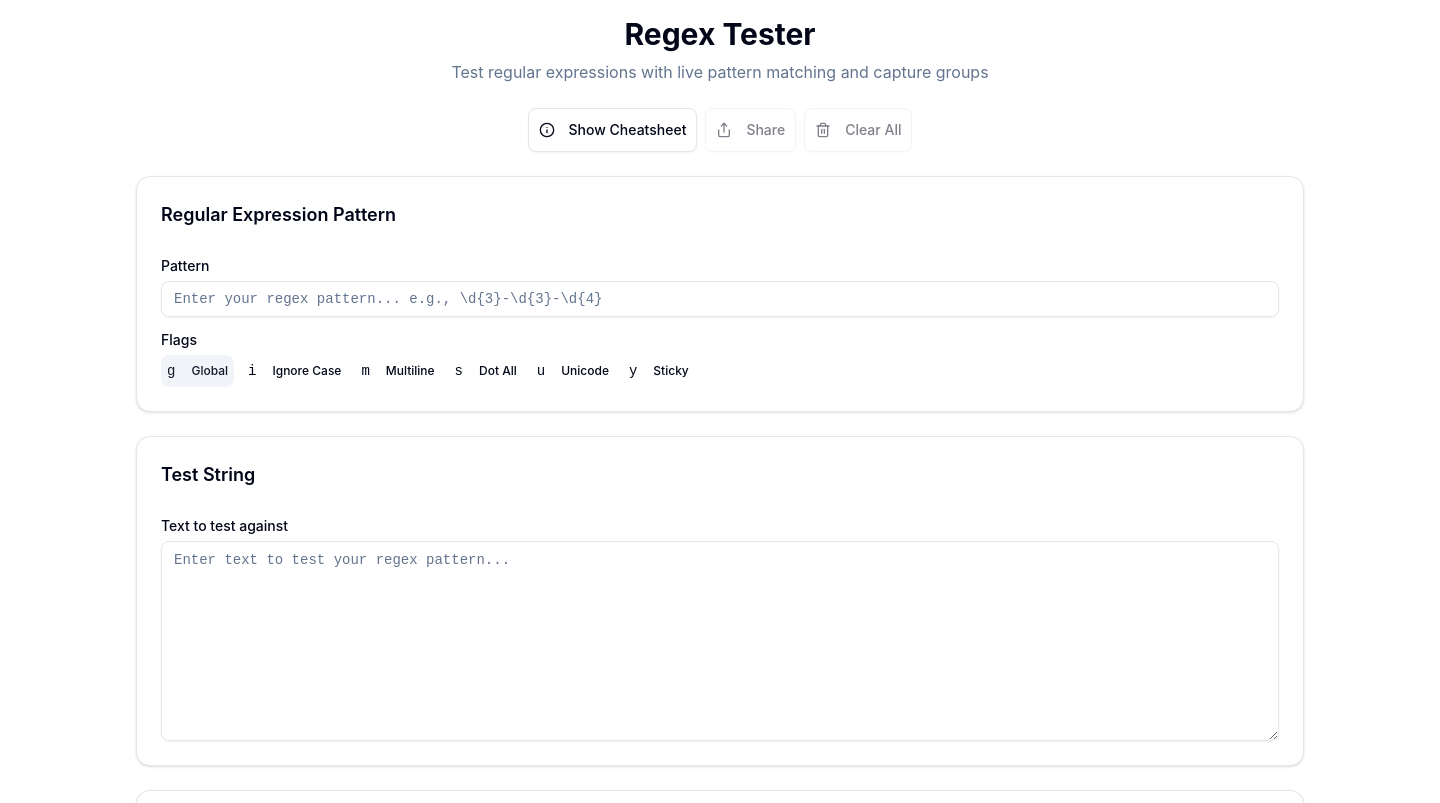
Test case: RegexTester › displays single match correctly
Type "hello" into the field labelled "Pattern" at (720, 299), box [161,281,1279,317]
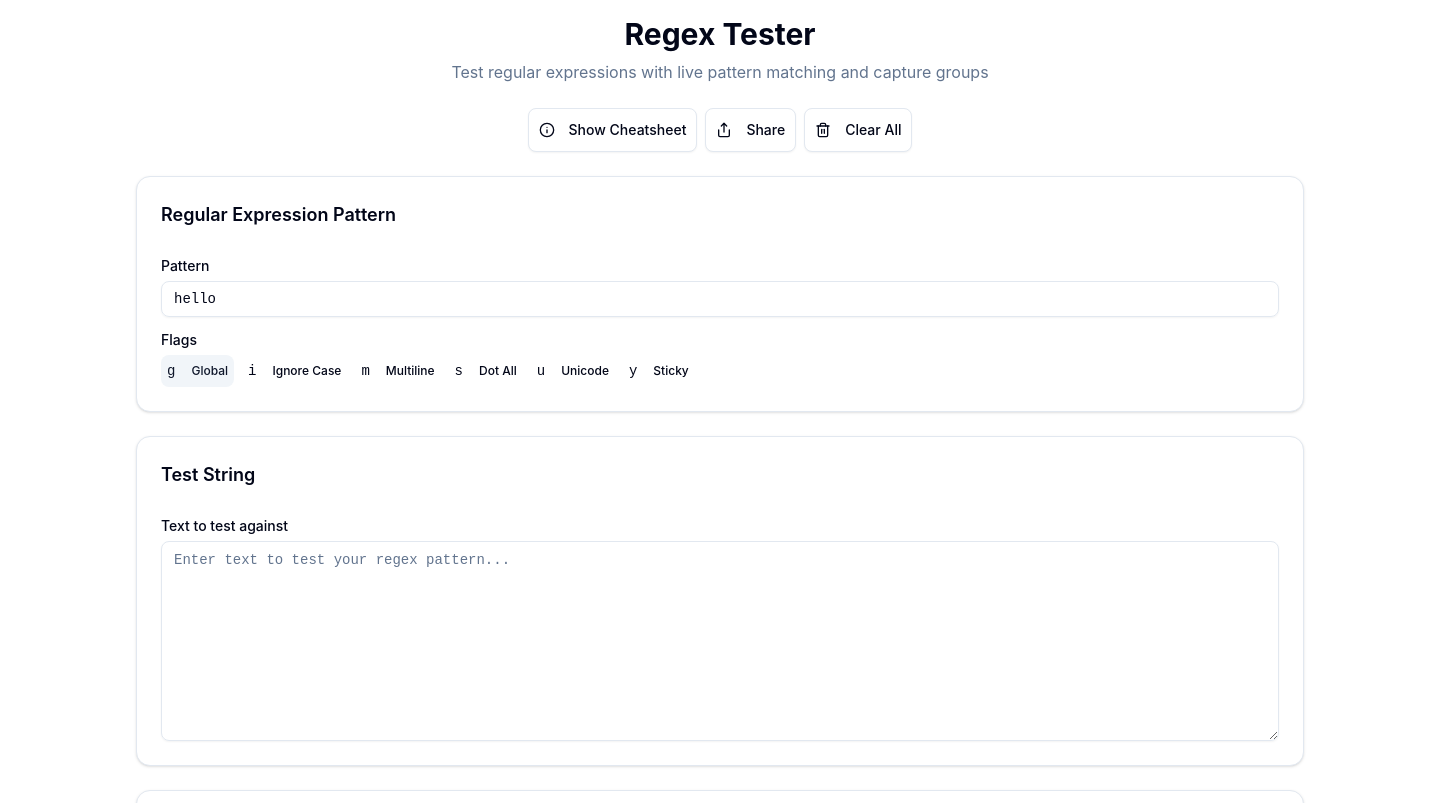
Type "hello world" into the text box labelled "Text to test against" at (720, 641), box [161,541,1279,741]
(page scrolled)
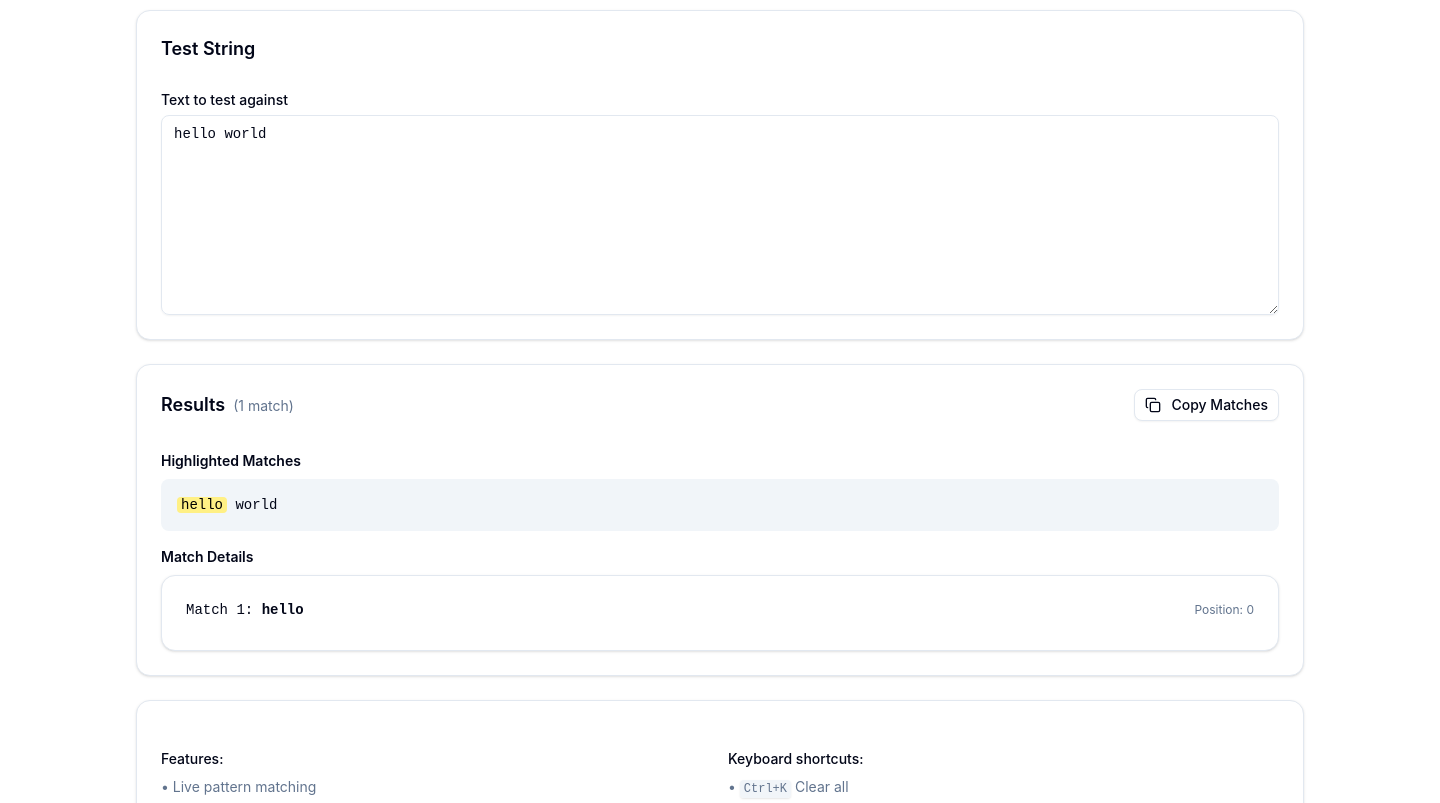
Now the text "(1 match)" is shown, box [233,397,294,414]
